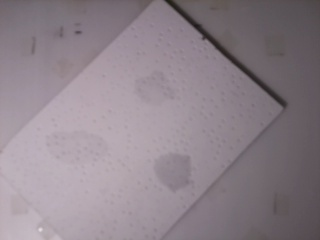Water_detected: (162, 157, 193, 191), (139, 76, 169, 109), (69, 144, 103, 169)
